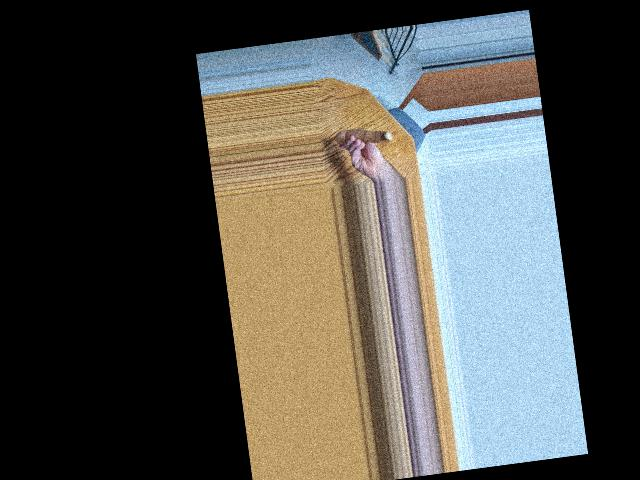sweet_potato: (334, 122, 391, 153)
